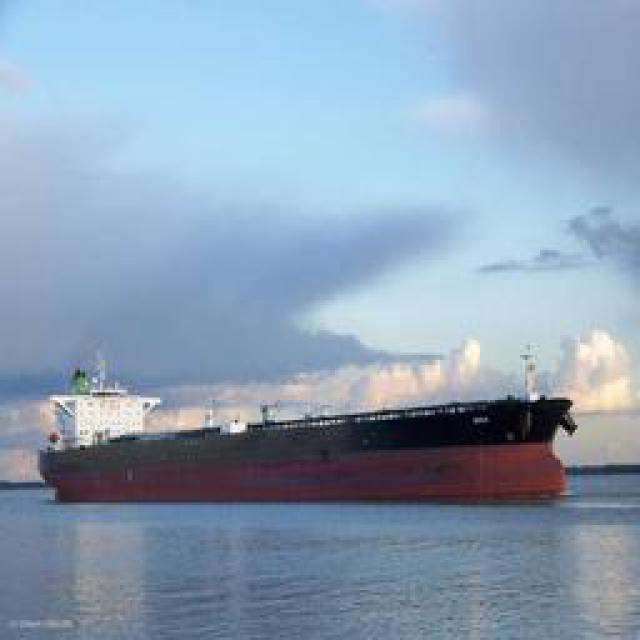Ship: (40, 397, 588, 495)
